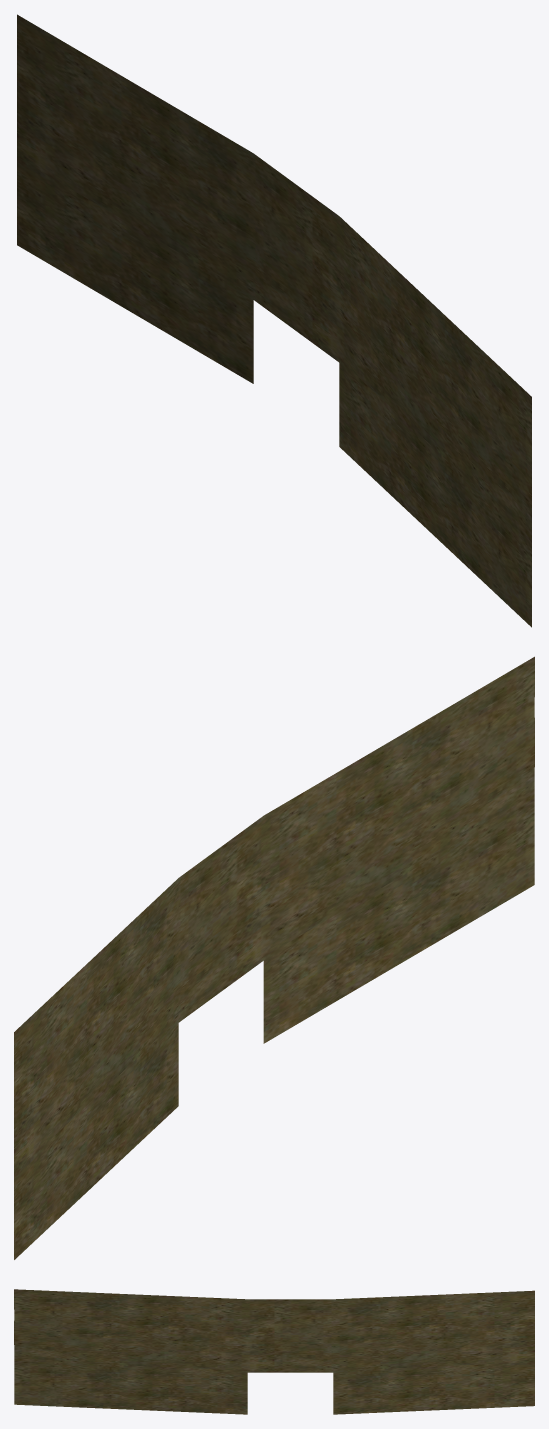
Rendered from CH09_SMAUG_PLAYSURFACE_LAIR127.fbx.
The picture shows the model from 3 angles, top to bottom: view 1: azimuth 30°, elevation 25°; view 2: azimuth 150°, elevation 25°; view 3: azimuth 270°, elevation 25°; orthographic projection. The views are drawn at different scales.
Parts seen in each view (by area): view 1: CH09_SMAUG_PLAYSURFACE_LAIR127; view 2: CH09_SMAUG_PLAYSURFACE_LAIR127; view 3: CH09_SMAUG_PLAYSURFACE_LAIR127.
Part boxes in pixels (box(x1,y1,x2,y2)): CH09_SMAUG_PLAYSURFACE_LAIR127: box(17, 14, 531, 627); CH09_SMAUG_PLAYSURFACE_LAIR127: box(14, 656, 534, 1259); CH09_SMAUG_PLAYSURFACE_LAIR127: box(14, 1289, 534, 1414).
Size of the model in its own units: 5980 by 32311 by 132206.
1 material, 1 textured.
